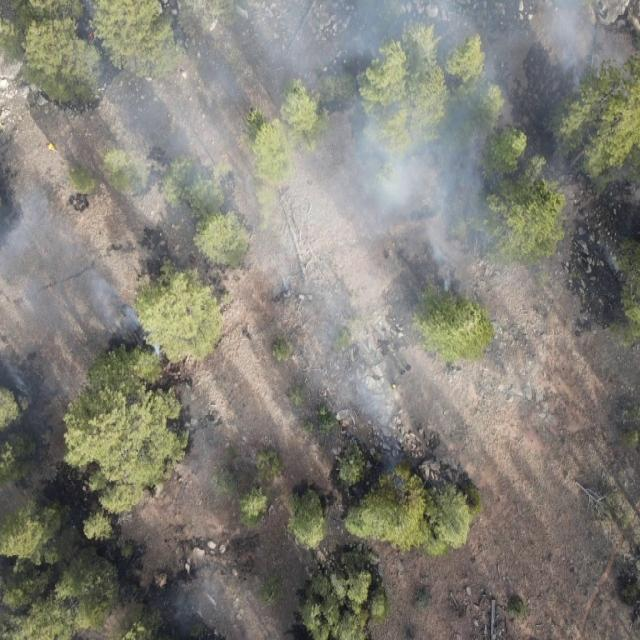fire: (80, 26, 94, 44)
smoke: (178, 0, 596, 195), (250, 194, 495, 456), (0, 186, 163, 386), (170, 571, 244, 640)
